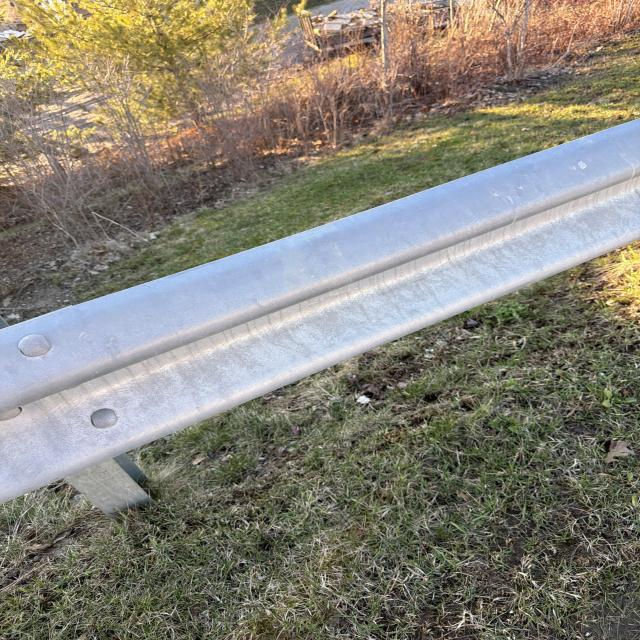Guard rail: (31, 138, 640, 473)
